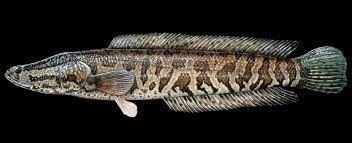Snakehead: (4, 30, 349, 116)
